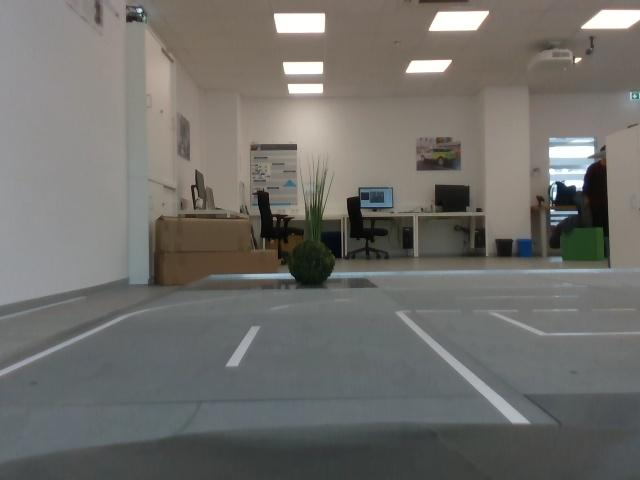potted plant: (295, 158, 337, 248), (292, 244, 338, 287)
